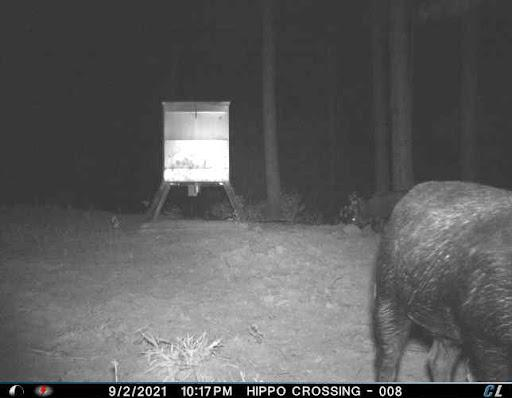Hog: (367, 178, 512, 385)
